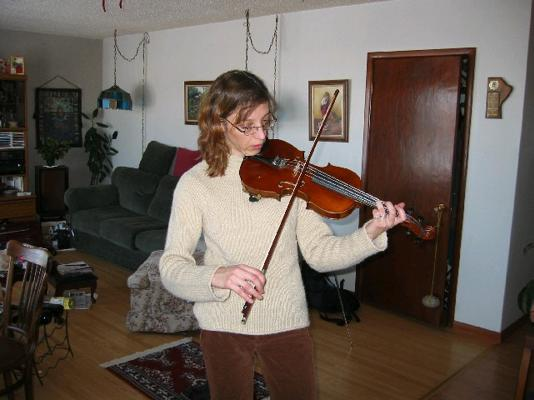person: (159, 70, 408, 400)
